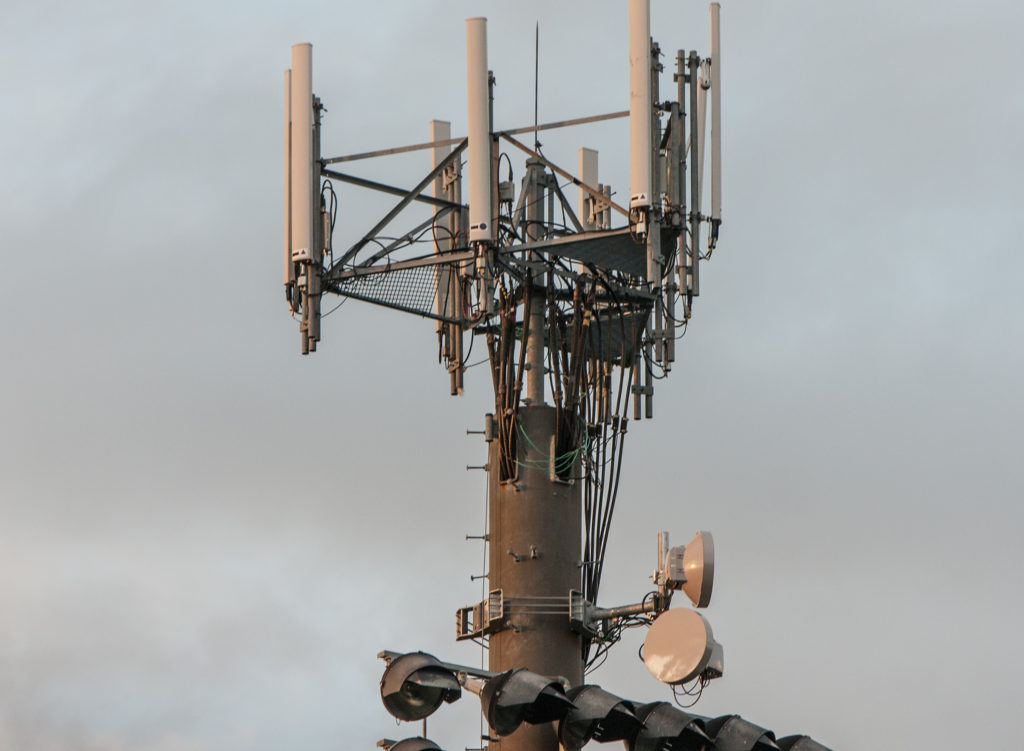ba: (622, 601, 729, 700), (652, 529, 726, 604)
sa: (278, 34, 342, 351), (419, 113, 473, 391), (618, 1, 671, 273), (459, 12, 511, 272), (561, 132, 616, 317), (699, 11, 735, 251)
